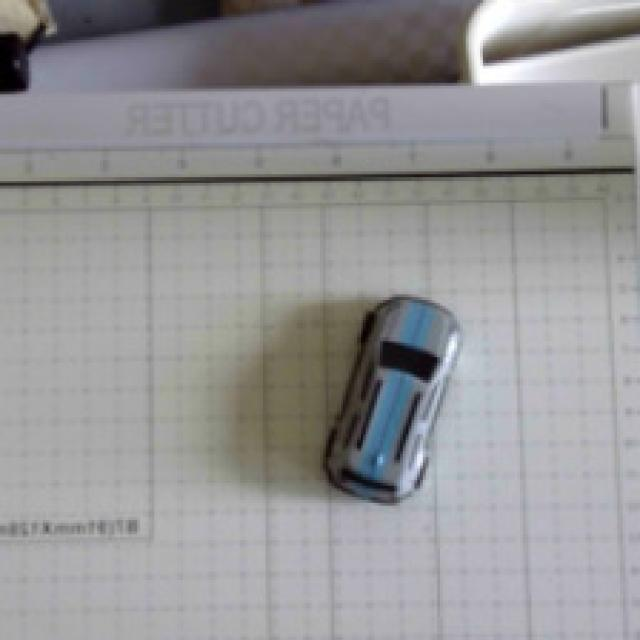Grey Car: (303, 267, 487, 533)
